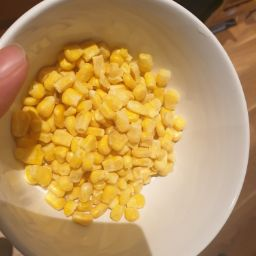Corn Kernel: (118, 38, 207, 229), (62, 33, 131, 224), (9, 67, 87, 214)
